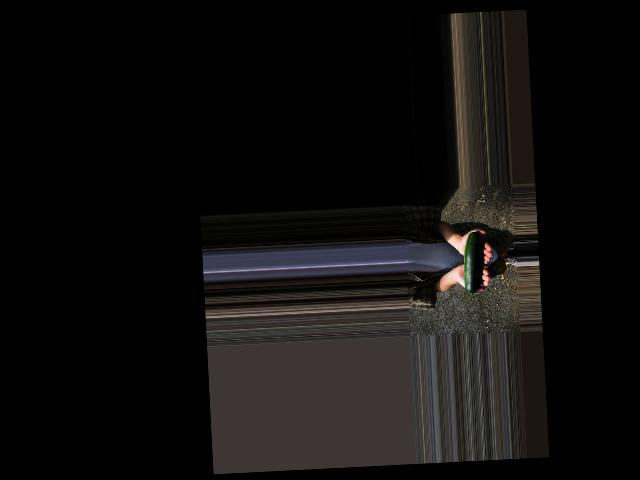cucumber: (462, 232, 485, 301)
